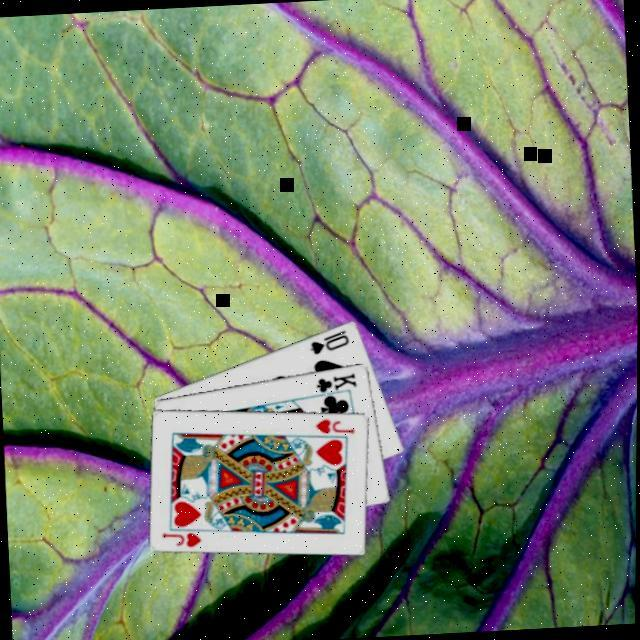10S: (306, 327, 354, 359)
JH: (314, 414, 359, 438), (162, 528, 207, 552)
KC: (313, 370, 362, 400)
